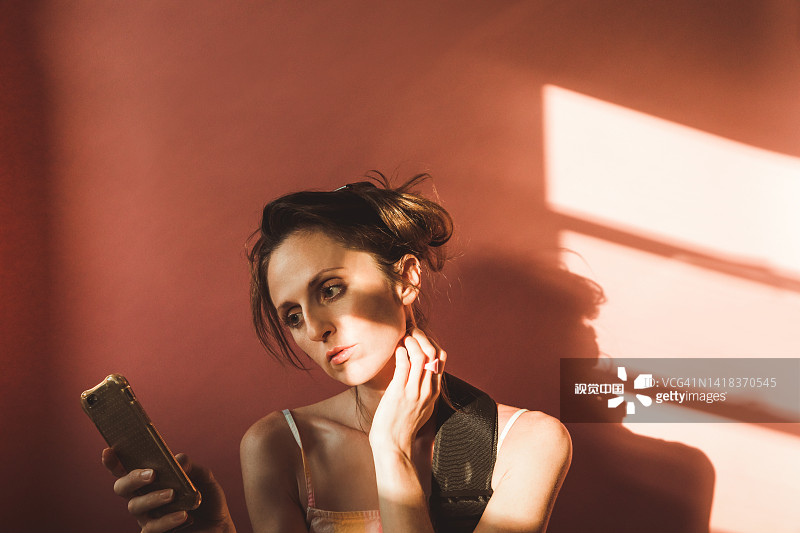no-phone: (365, 319, 454, 473)
reading: (70, 376, 249, 533)
